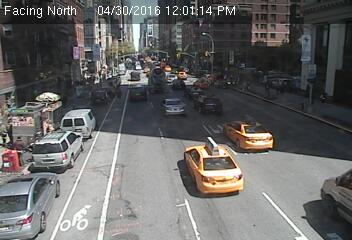neg: (141, 148, 168, 184), (48, 129, 70, 159), (39, 169, 60, 198), (32, 91, 49, 114), (201, 31, 215, 49), (68, 46, 80, 63), (124, 67, 136, 83), (298, 31, 310, 46), (260, 23, 271, 39)
pos: (7, 135, 30, 166), (261, 80, 276, 101), (276, 80, 291, 99), (100, 89, 114, 107)
